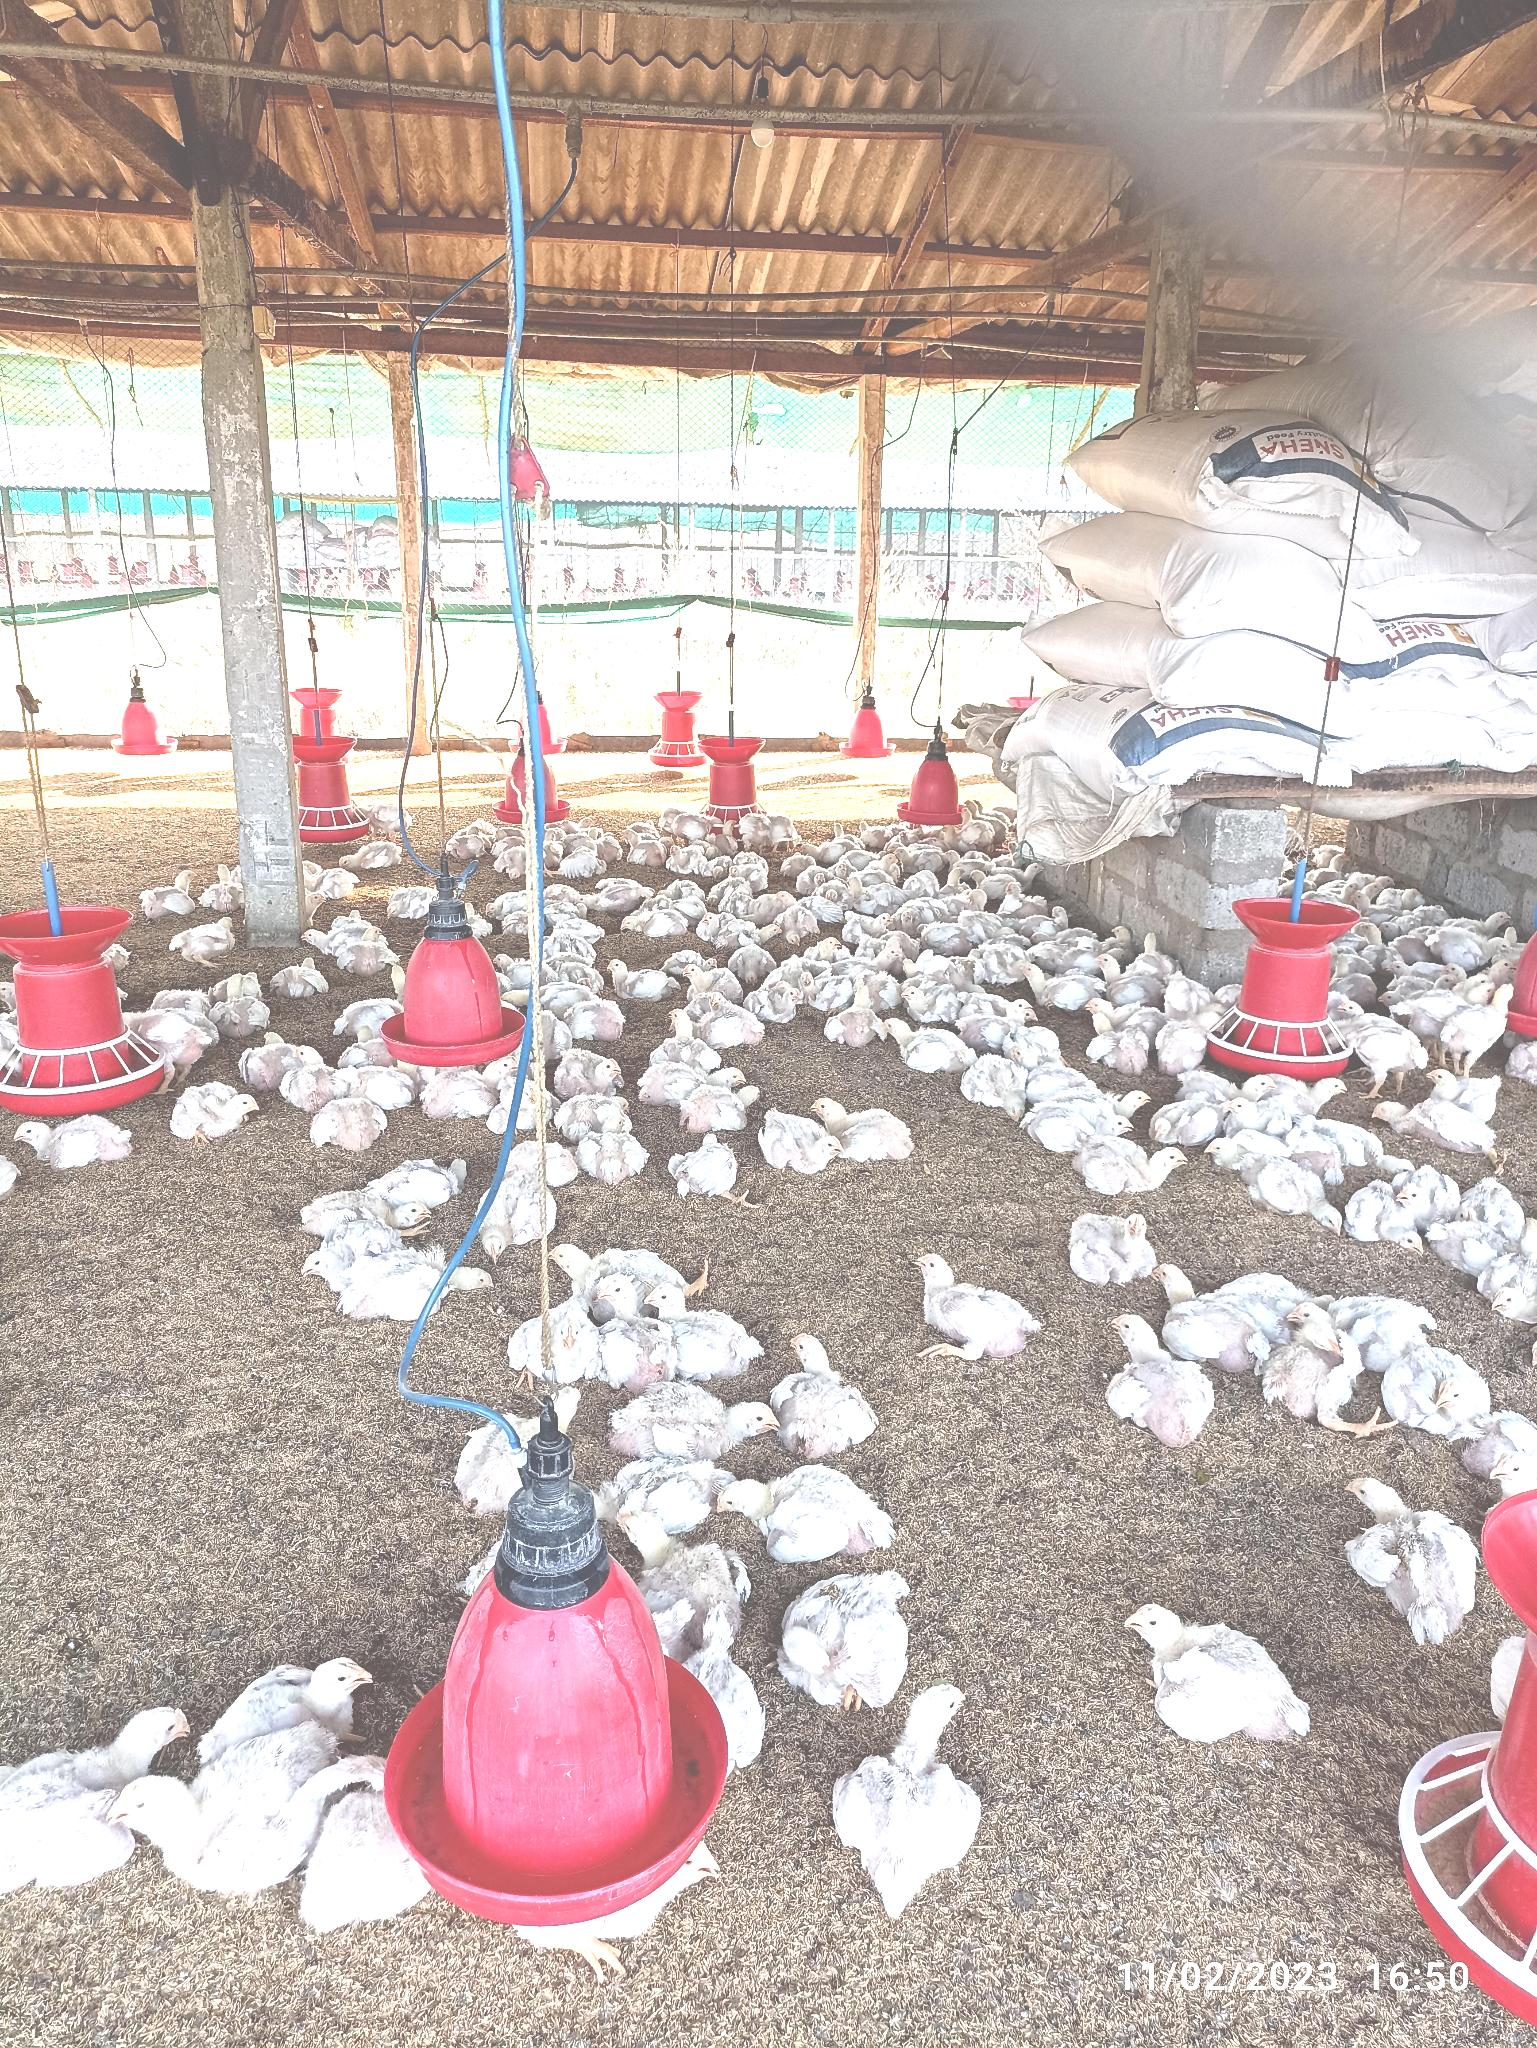Pollos: (110, 1722, 363, 1904), (840, 1677, 986, 1911), (1120, 1595, 1321, 1751), (1338, 1477, 1489, 1630), (781, 1554, 919, 1704), (1104, 1314, 1217, 1461), (912, 1246, 1037, 1369), (768, 1327, 885, 1446), (802, 1089, 927, 1159), (1061, 1209, 1159, 1293), (1070, 1135, 1190, 1193), (13, 1115, 145, 1165)
